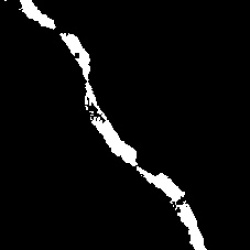crack: (63, 32, 137, 165), (137, 169, 186, 208), (179, 203, 207, 247), (19, 1, 57, 29)
